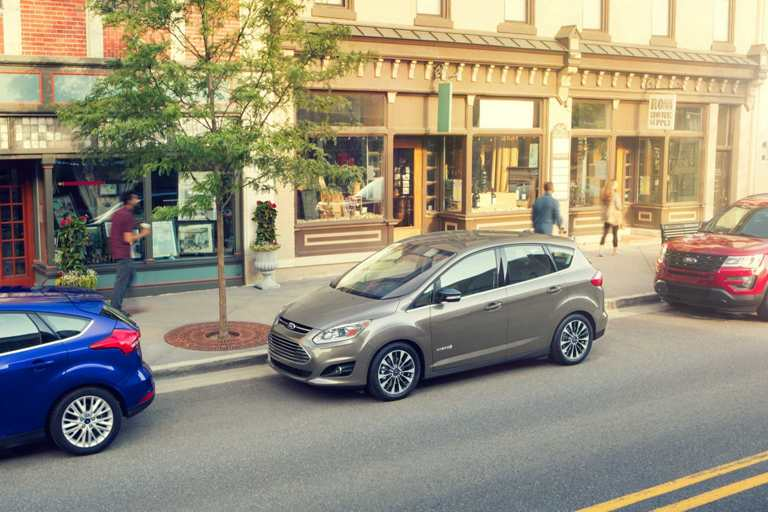car: (270, 230, 608, 403), (1, 288, 156, 455), (653, 185, 768, 325)
